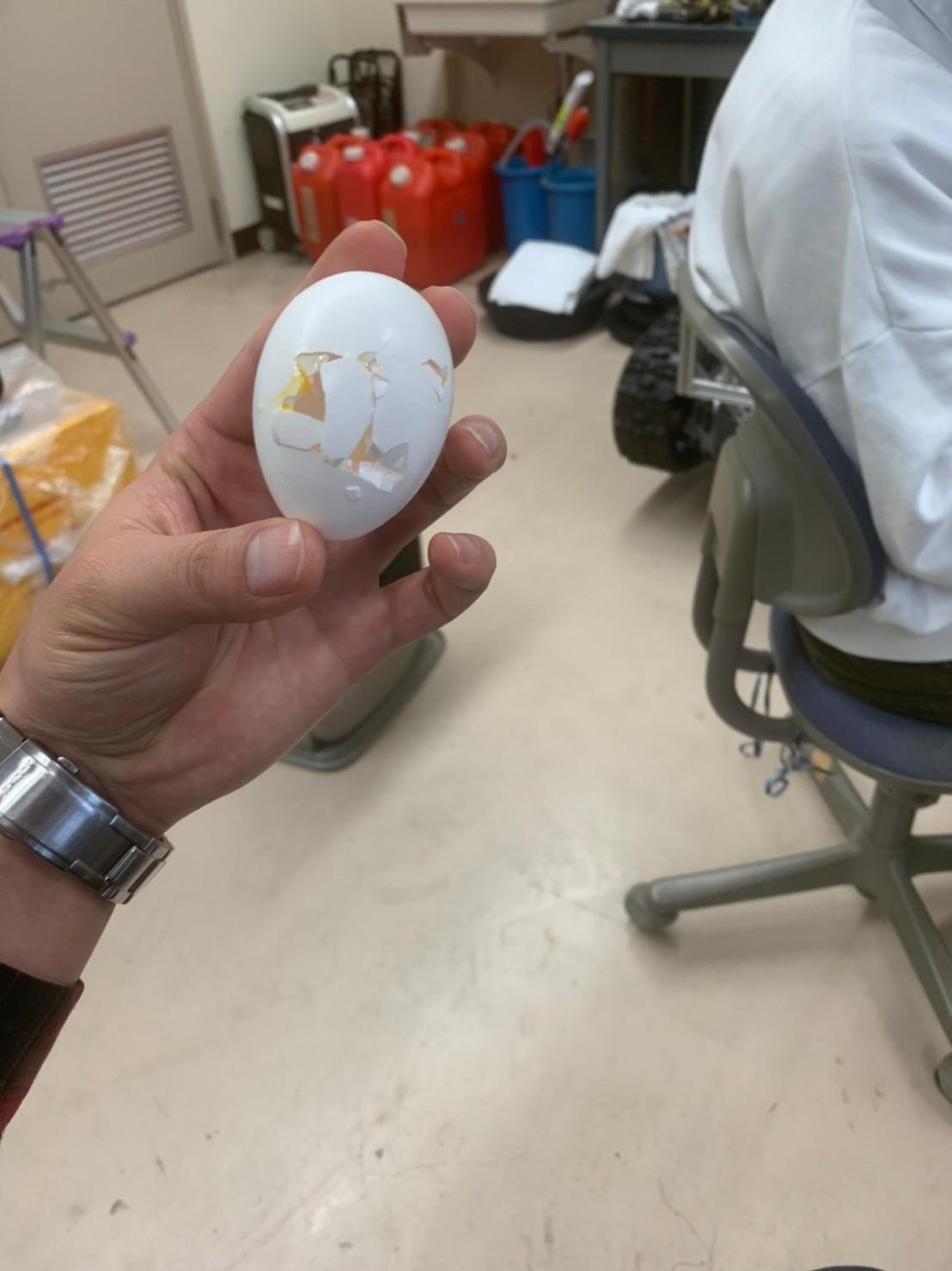egg: (249, 261, 458, 543)
